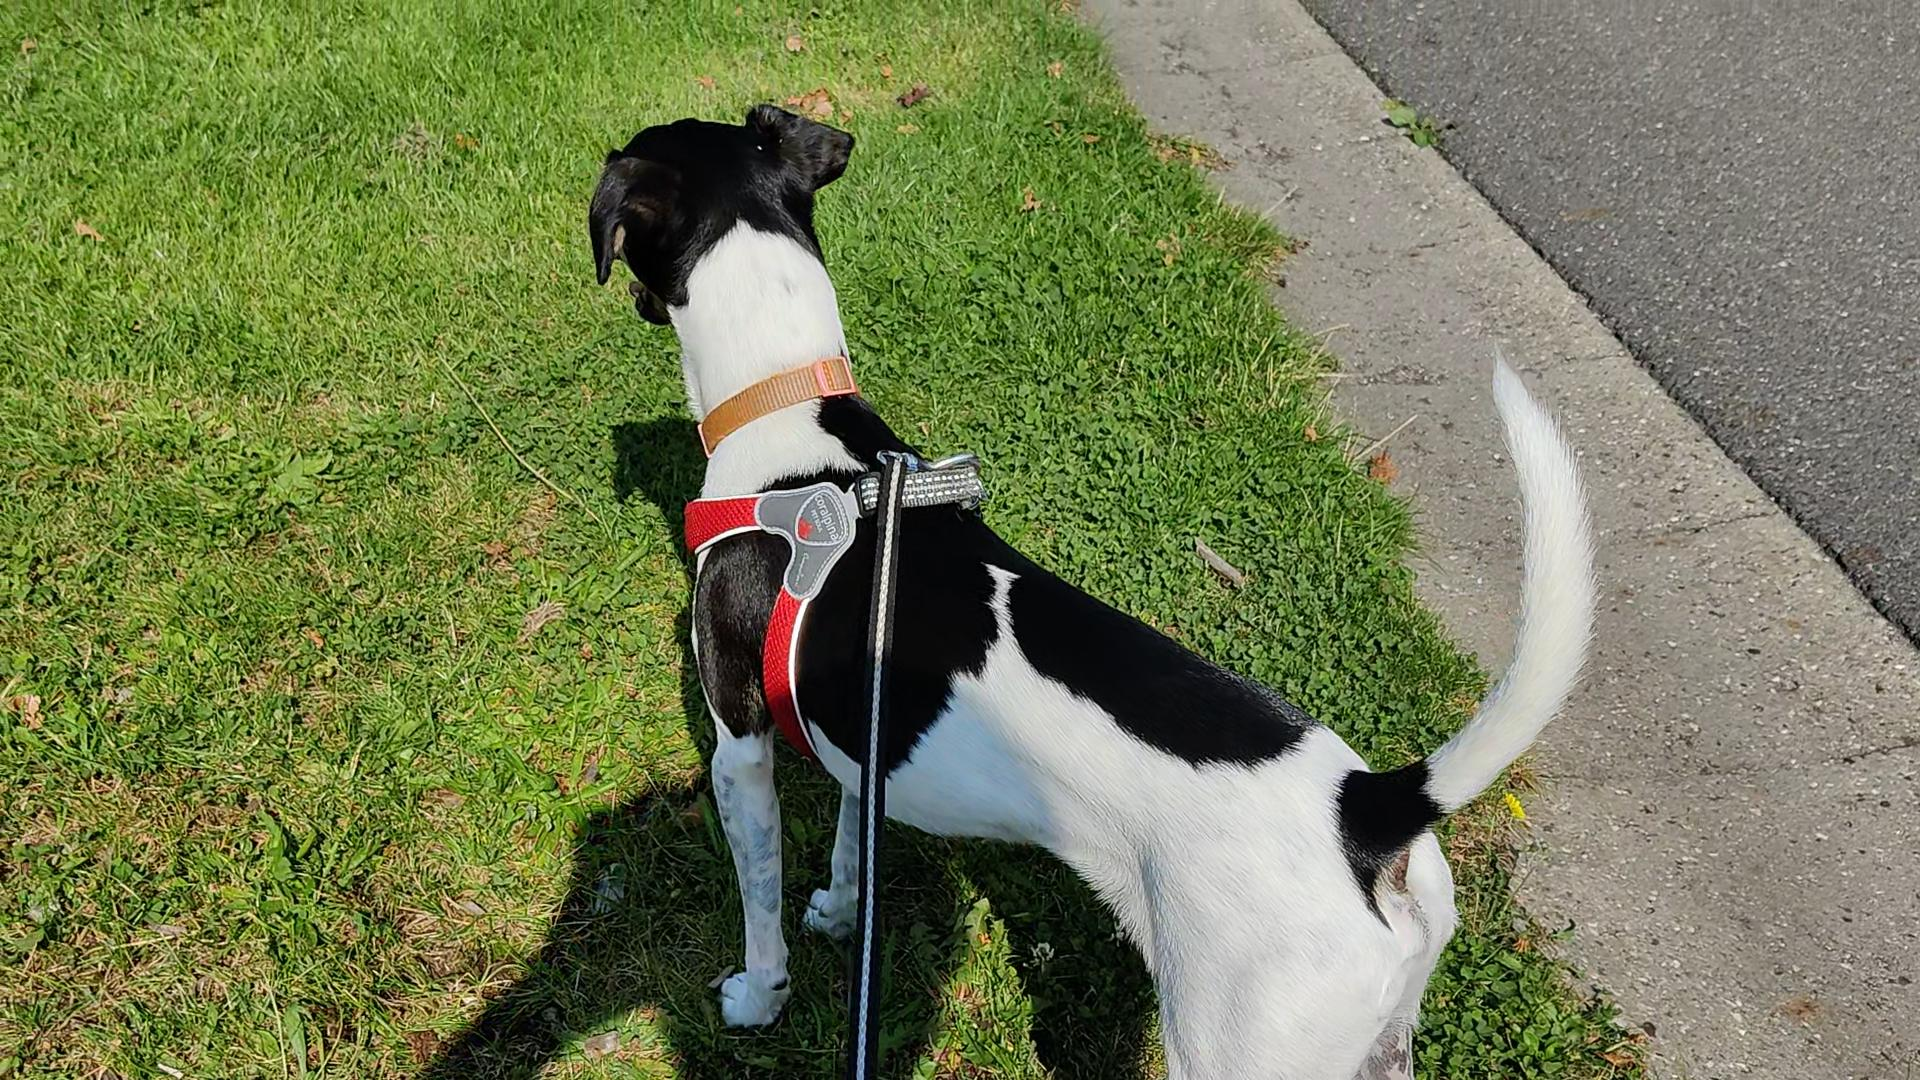Dog: (547, 82, 1615, 1079)
